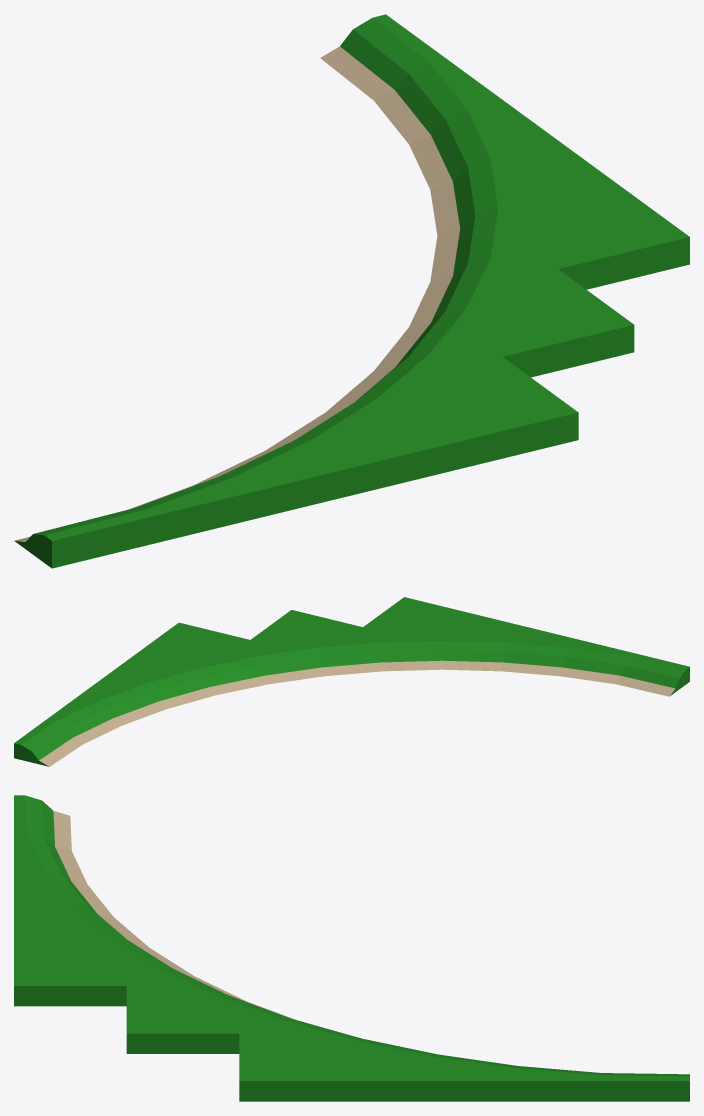
The model's file is path_edge_corner_outer_x3.obj.
3 views of the same model, one above another, from view 1: azimuth 30°, elevation 25°; view 2: azimuth 150°, elevation 25°; view 3: azimuth 270°, elevation 25° (orthographic). The views are drawn at different scales.
Parts seen in each view (by area): view 1: 3Outer_Circle.017; view 2: 3Outer_Circle.017; view 3: 3Outer_Circle.017.
Part boxes in pixels (box(x1,y1,x2,y2)): 3Outer_Circle.017: box(14, 14, 689, 568); 3Outer_Circle.017: box(14, 597, 689, 766); 3Outer_Circle.017: box(14, 795, 689, 1101).
Bounding box in the file's own units: 6 × 0.2 × 6.
